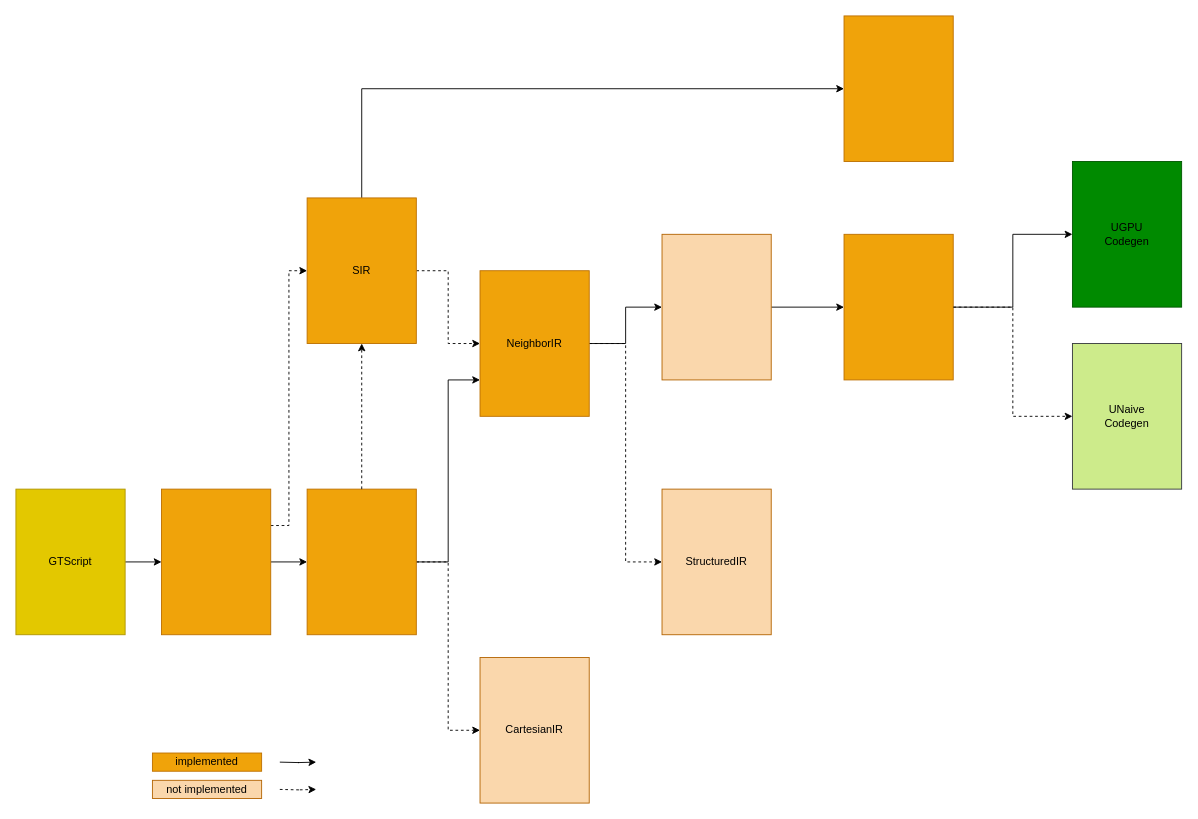
Image size: 1198x819. Some labels were removed from this diagram. Here are the shapes that lost their labels. From the top down, the box of each, then its label:
(843, 15, 953, 162): Dawn Naive
(661, 233, 771, 380): UnstructuredIR
(843, 233, 953, 380): USID
(161, 488, 271, 635): GT4PyAst
(306, 488, 416, 635): GTIR
